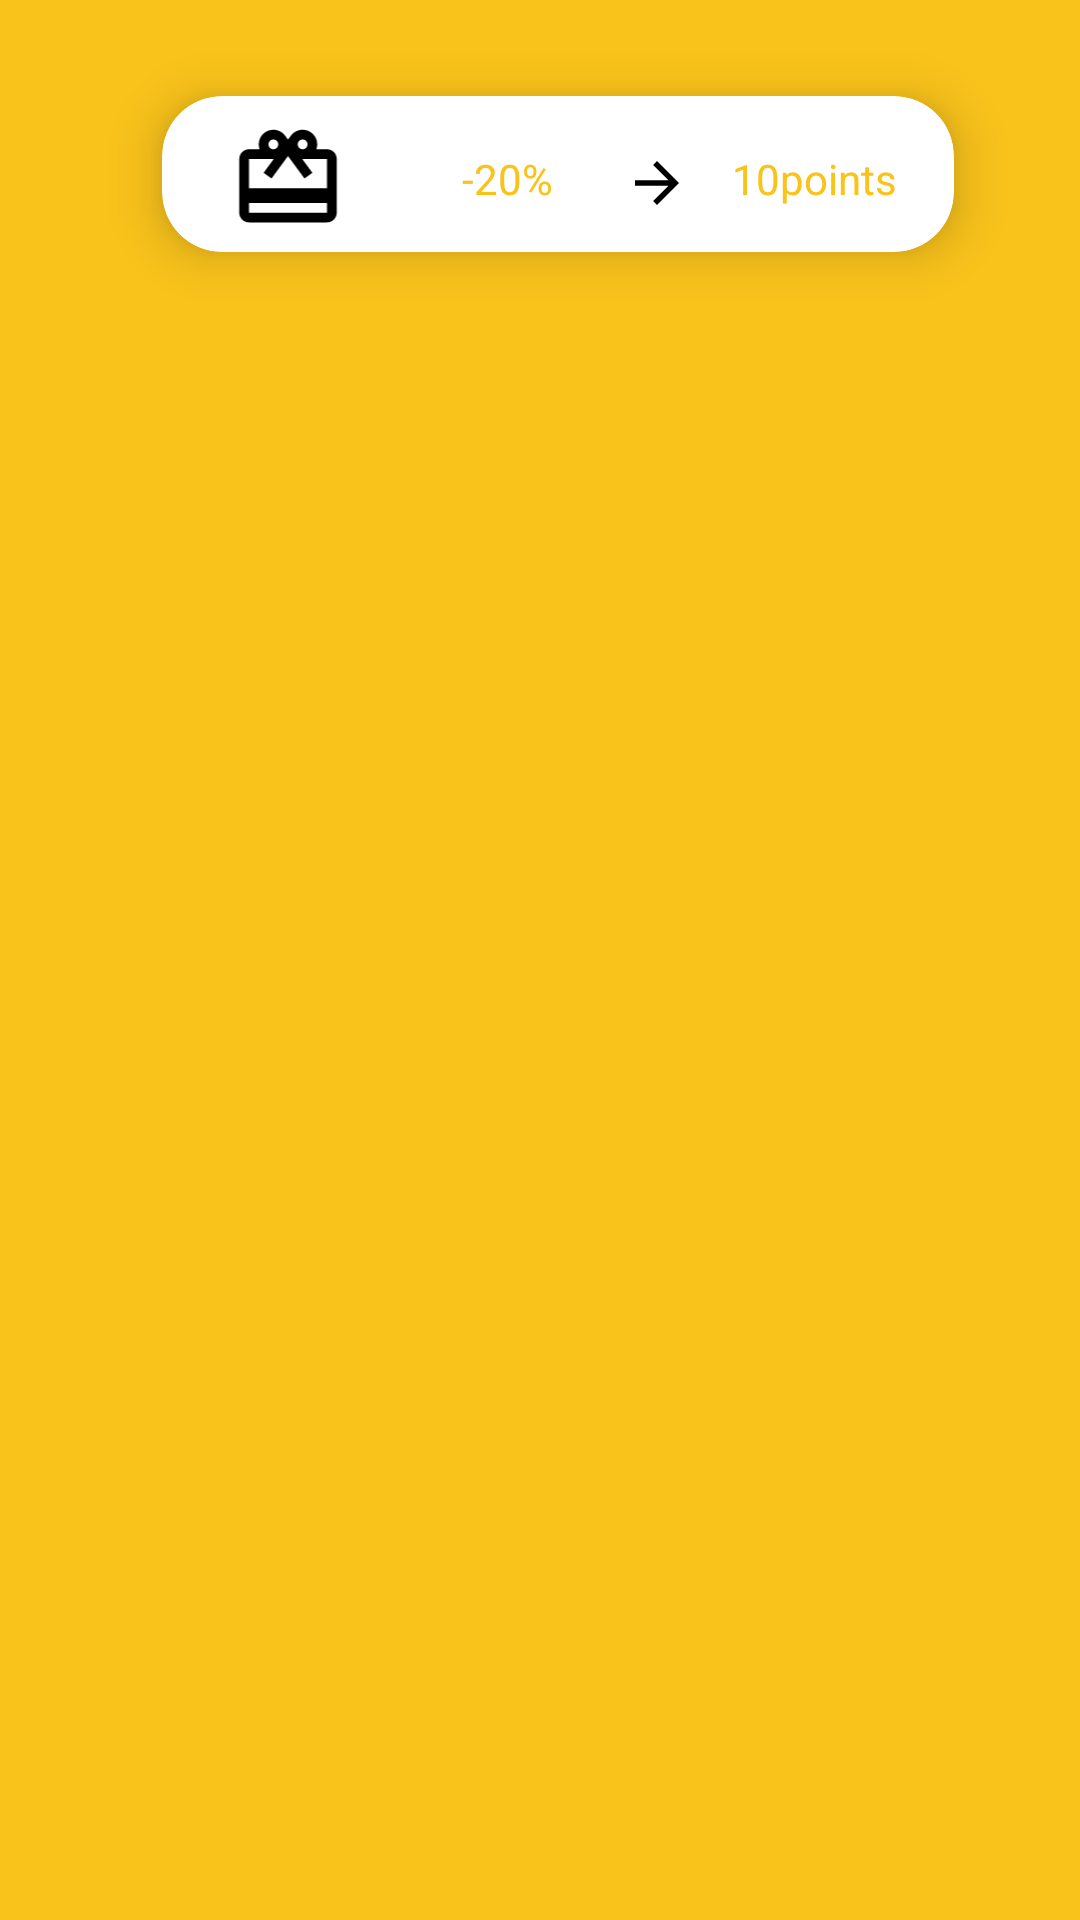

Named icons in this screenshot (1080×1920) and their centers, (x,y):
arrow forward: (657,183)
redeem: (288,176)
